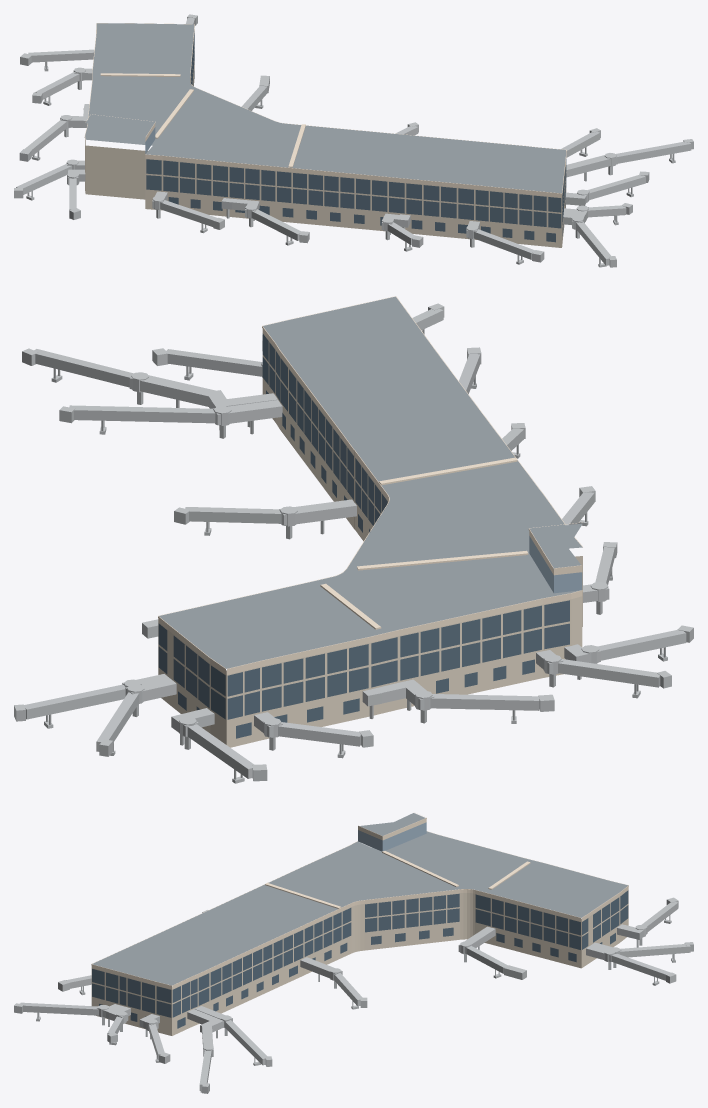
File: nyc-lga-terminal-b-east-concourse.glb
3 renders of one model, top to bottom at view 1: azimuth 30°, elevation 25°; view 2: azimuth 150°, elevation 25°; view 3: azimuth 270°, elevation 25°, orthographic. The views are drawn at different scales.
Parts seen in each view (by area): view 1: LaGuardia Airport Terminal B Eastern Concourse; view 2: LaGuardia Airport Terminal B Eastern Concourse; view 3: LaGuardia Airport Terminal B Eastern Concourse.
Boxes of the visible parts, left/top/right/bottom form: LaGuardia Airport Terminal B Eastern Concourse: left=14, top=14, right=693, bottom=267; LaGuardia Airport Terminal B Eastern Concourse: left=14, top=296, right=693, bottom=783; LaGuardia Airport Terminal B Eastern Concourse: left=14, top=812, right=693, bottom=1093.
Size of the model in its own units: 242 by 29.57 by 275.
